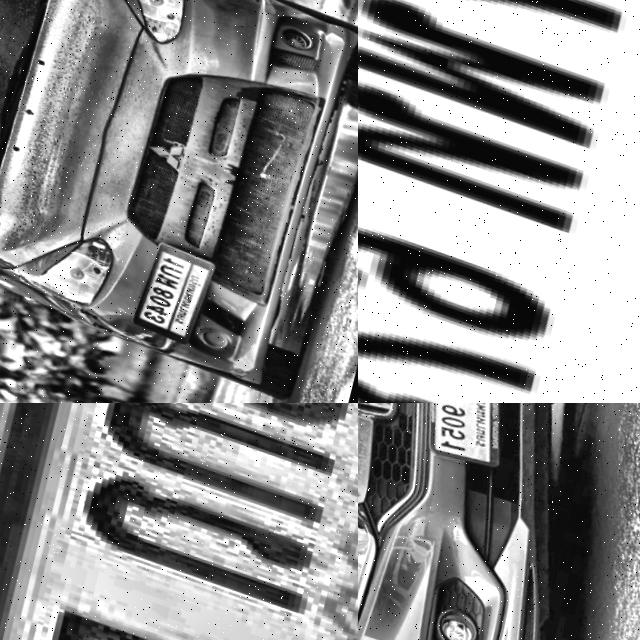license-plate: (358, 0, 640, 403), (0, 403, 358, 640), (128, 232, 214, 338), (399, 403, 527, 469)
